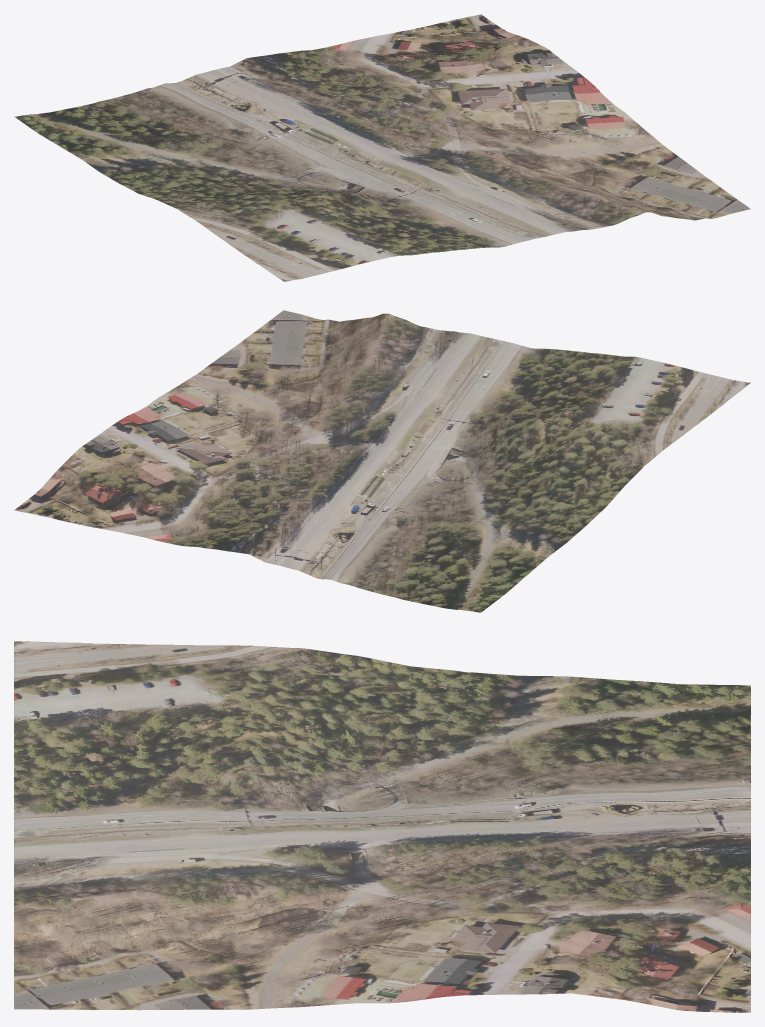
File: CM_Terrain_24491482_6817336.fbx
The picture shows the model from 3 angles, top to bottom: view 1: azimuth 30°, elevation 25°; view 2: azimuth 150°, elevation 25°; view 3: azimuth 270°, elevation 25°; orthographic projection. The views are drawn at different scales.
Visible parts, largest first — view 1: CM_Terrain_24491482_6817336_LOD0; view 2: CM_Terrain_24491482_6817336_LOD0; view 3: CM_Terrain_24491482_6817336_LOD0.
Boxes of the visible parts, x1,y1,x2,y2 form: CM_Terrain_24491482_6817336_LOD0: (14,14,750,281); CM_Terrain_24491482_6817336_LOD0: (14,310,750,612); CM_Terrain_24491482_6817336_LOD0: (14,641,750,1012).
Size of what is drawn, in the model's own units: 205 by 18.45 by 205.
